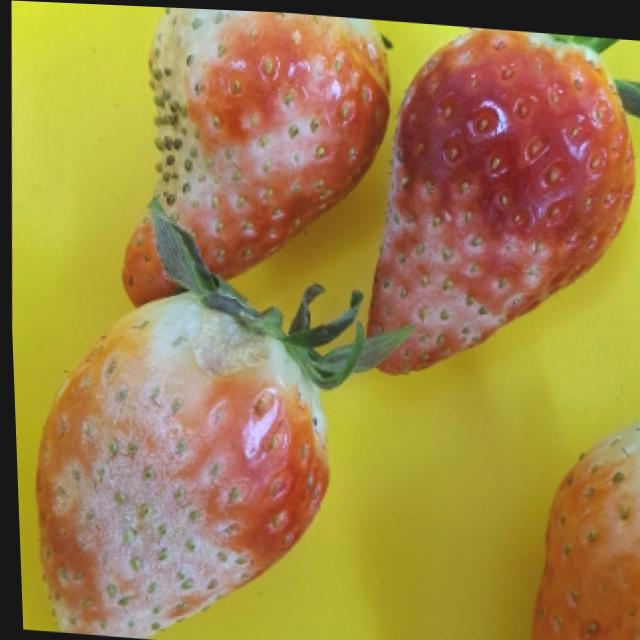Powdery Mildew Fruit: (29, 283, 329, 638), (359, 21, 637, 372), (120, 6, 390, 302)
